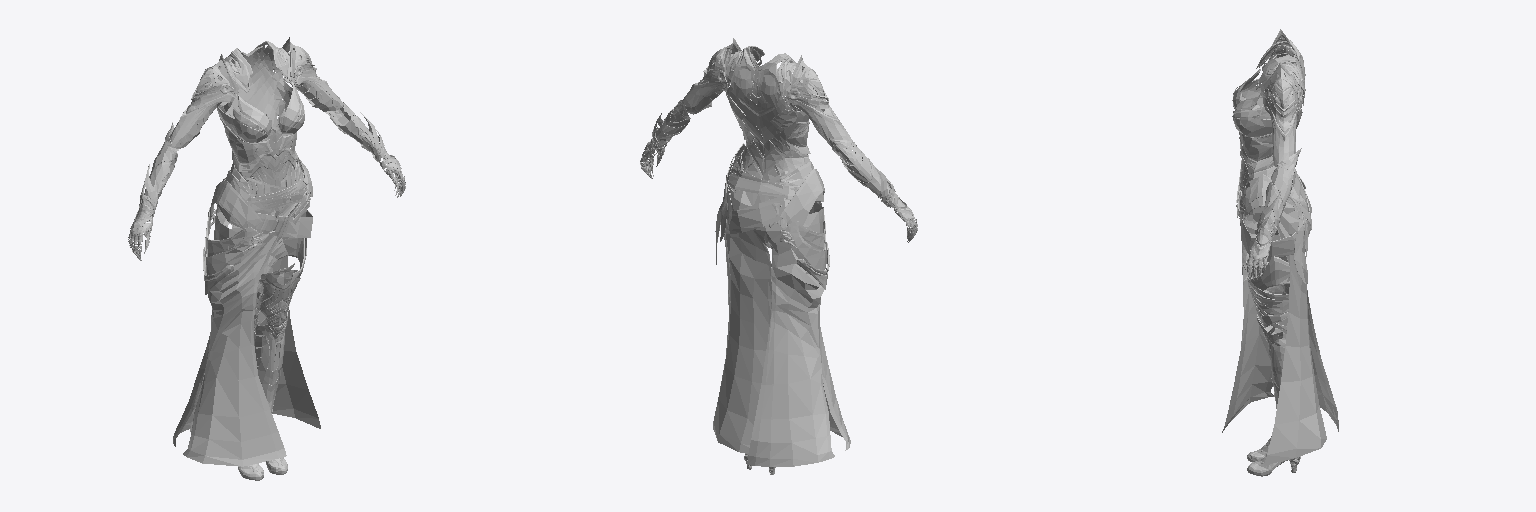
File: Varmor.OBJ
3 renders of one model, left to right at view 1: azimuth 30°, elevation 25°; view 2: azimuth 150°, elevation 25°; view 3: azimuth 270°, elevation 25°, orthographic.
Parts seen in each view (by area): view 1: ZBrushPolyMesh3D; view 2: ZBrushPolyMesh3D; view 3: ZBrushPolyMesh3D.
Part boxes in pixels (x1,y1,x2,y2): ZBrushPolyMesh3D: (128,37,405,480); ZBrushPolyMesh3D: (640,38,917,474); ZBrushPolyMesh3D: (1222,29,1338,476).
Bounding box in the file's own units: 102 × 151 × 38.46.